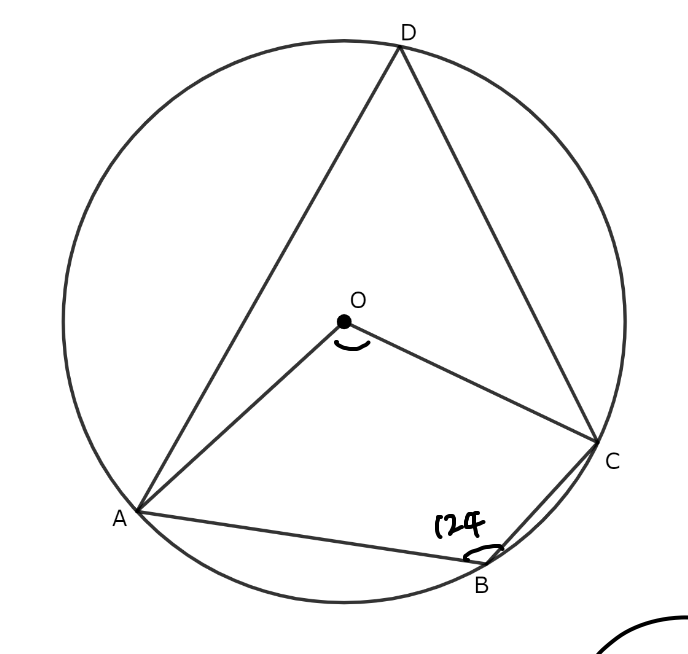Angle_Scurve: (462, 538, 515, 567), (323, 337, 374, 356)
